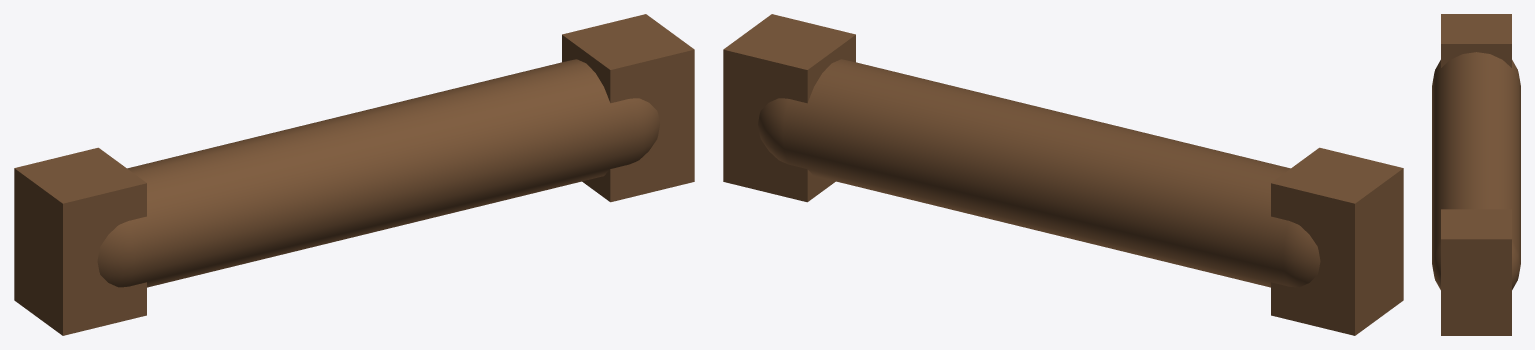
3 views of the same model, side by side, from view 1: azimuth 30°, elevation 25°; view 2: azimuth 150°, elevation 25°; view 3: azimuth 270°, elevation 25° (orthographic). The views are drawn at different scales.
Parts seen in each view (by area): view 1: OBJ-012 — DEMO NON_VALIDE; view 2: OBJ-012 — DEMO NON_VALIDE; view 3: OBJ-012 — DEMO NON_VALIDE.
Boxes of the visible parts, x1=… form: OBJ-012 — DEMO NON_VALIDE: x1=14, y1=14, x2=694, y2=335; OBJ-012 — DEMO NON_VALIDE: x1=723, y1=14, x2=1403, y2=335; OBJ-012 — DEMO NON_VALIDE: x1=1432, y1=14, x2=1520, y2=335.
Bounding box in the file's own units: 2 × 0.4 × 0.3333.
